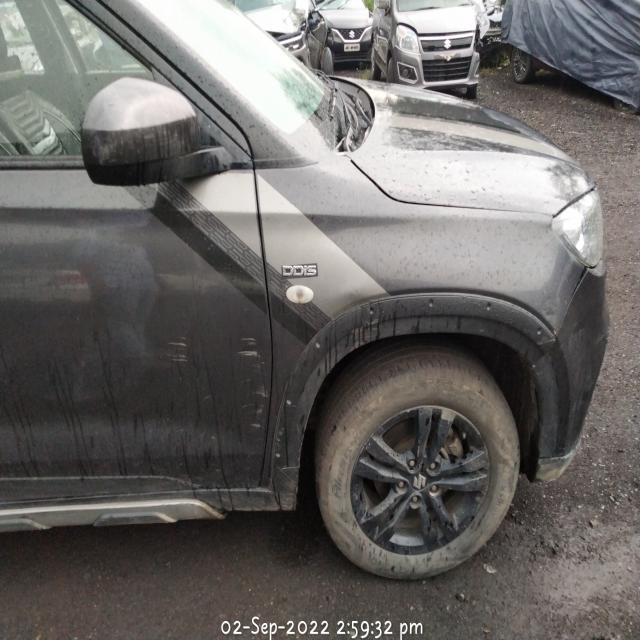damage: (168, 326, 269, 437)
